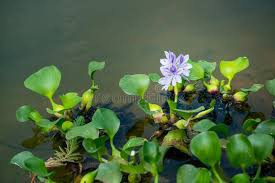water_hyacinth: (11, 54, 273, 182)
